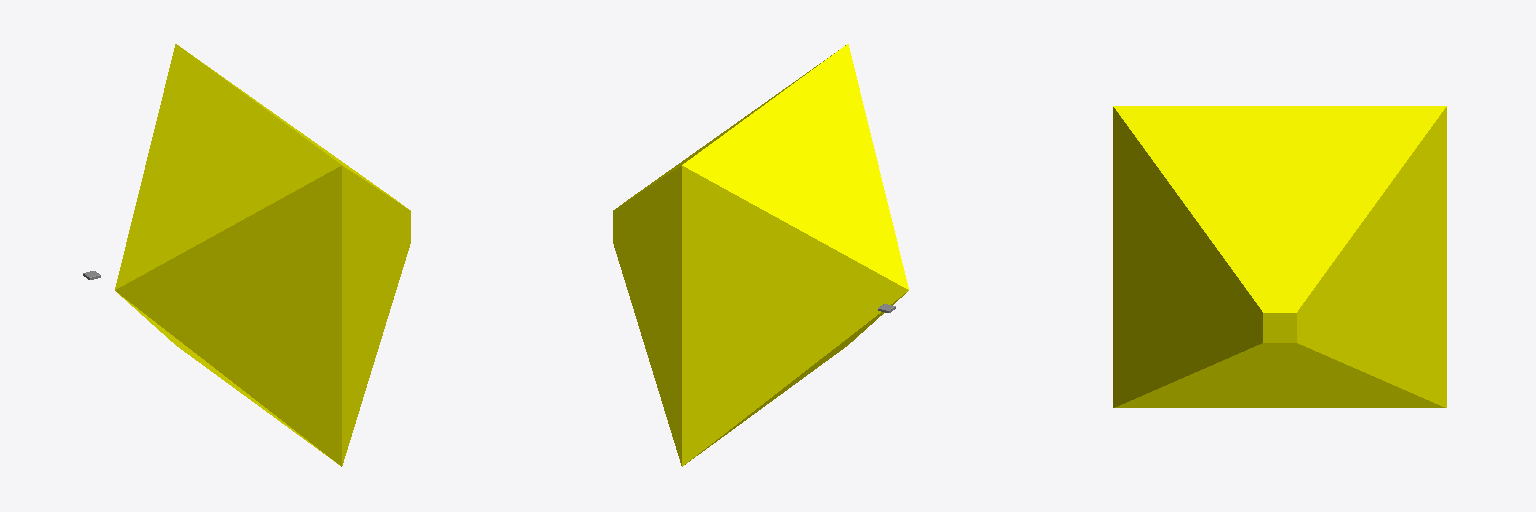
The model's file is mis_obj_OpenBlock4_HD.obj.
The picture shows the model from 3 angles: view 1: azimuth 30°, elevation 25°; view 2: azimuth 150°, elevation 25°; view 3: azimuth 270°, elevation 25°; orthographic projection.
Visible parts, largest first — view 1: wave; view 2: wave; view 3: wave.
Part boxes in pixels (x1,y1,x2,y2): wave: (115, 44, 410, 466); wave: (613, 44, 908, 466); wave: (1113, 106, 1446, 407).
Size of the model in its own units: 3672 by 3600 by 3600.